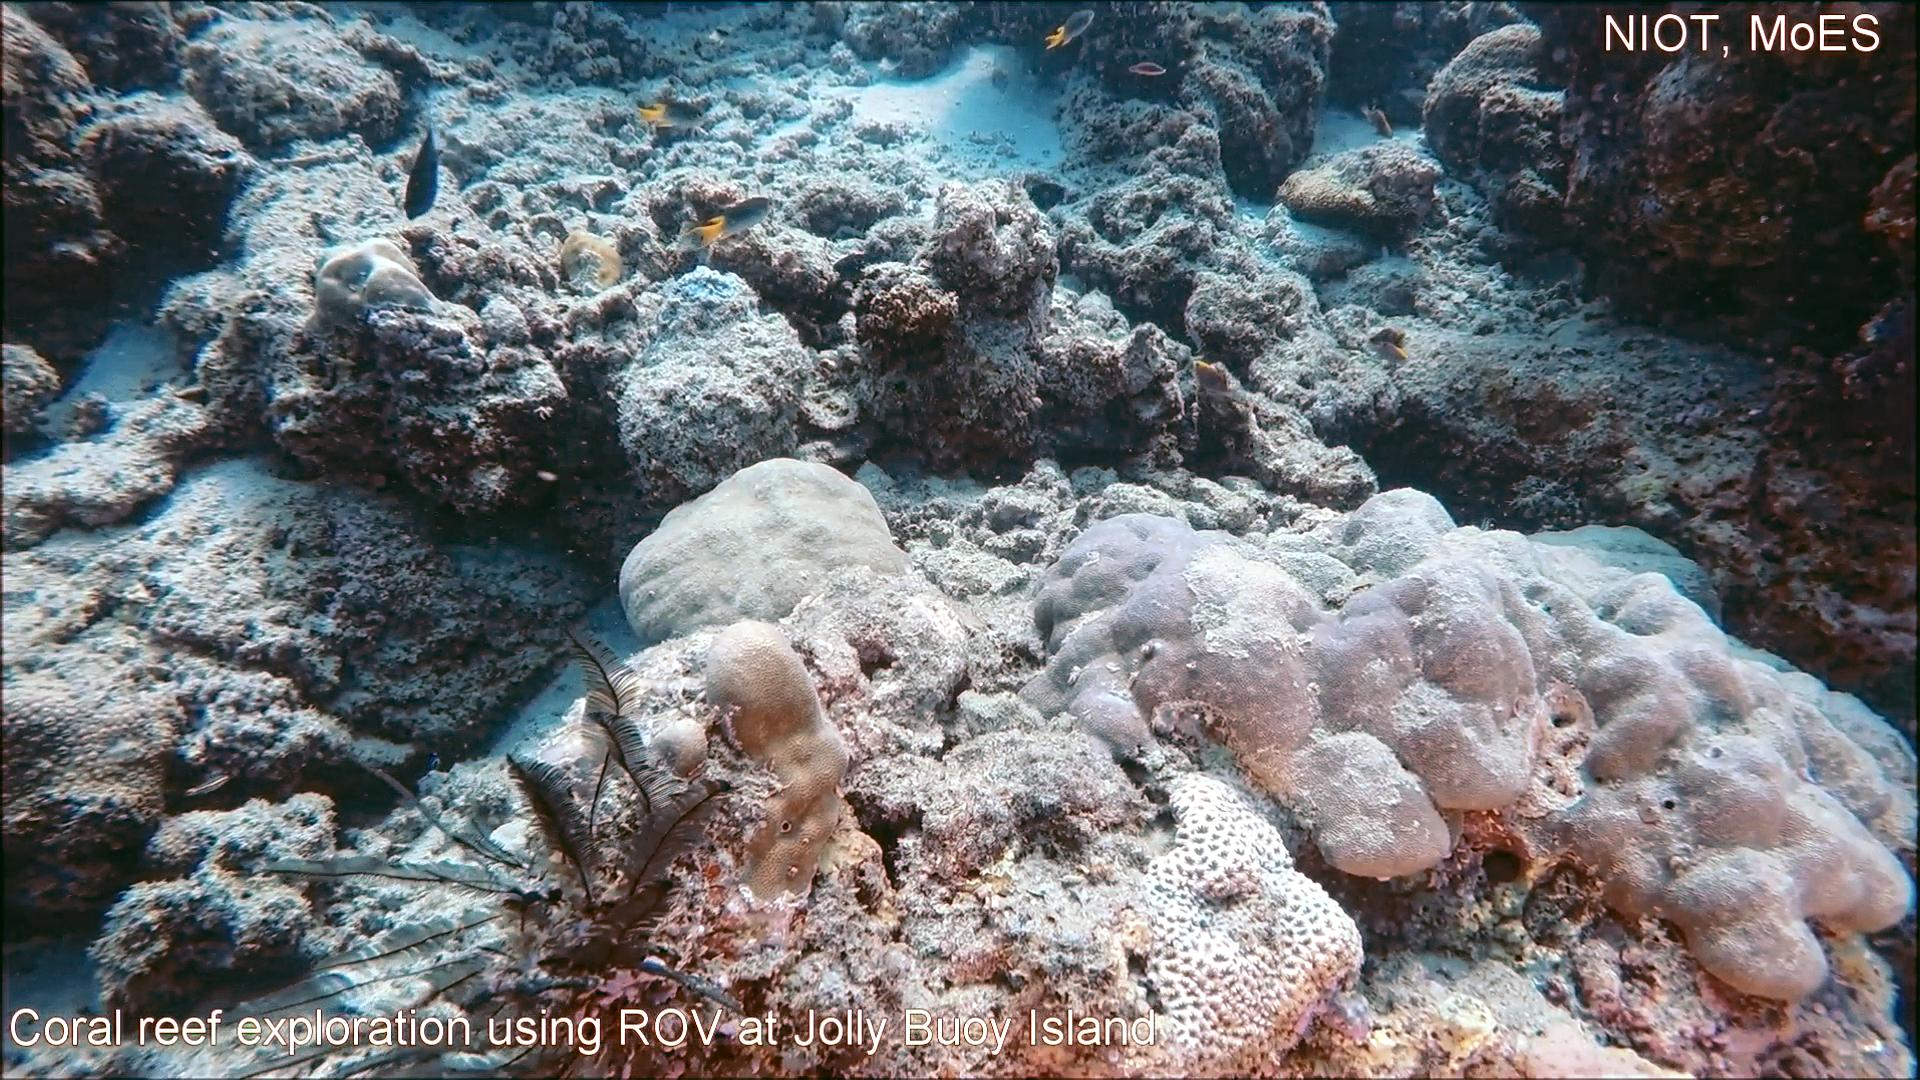Feather star-Crinoid star: (194, 618, 778, 1080)
Goniastrea-Goniastrea pectinata: (1112, 761, 1373, 1080)
Porites-Porites pukoensis: (1410, 480, 1920, 1009)
Turbinaria-Turbinaria stellulata: (0, 676, 181, 860)
